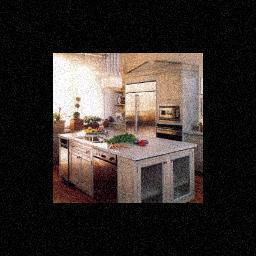Electrodomestico: (126, 86, 157, 136), (93, 149, 117, 203)
Lavaplatos: (78, 130, 110, 147)
